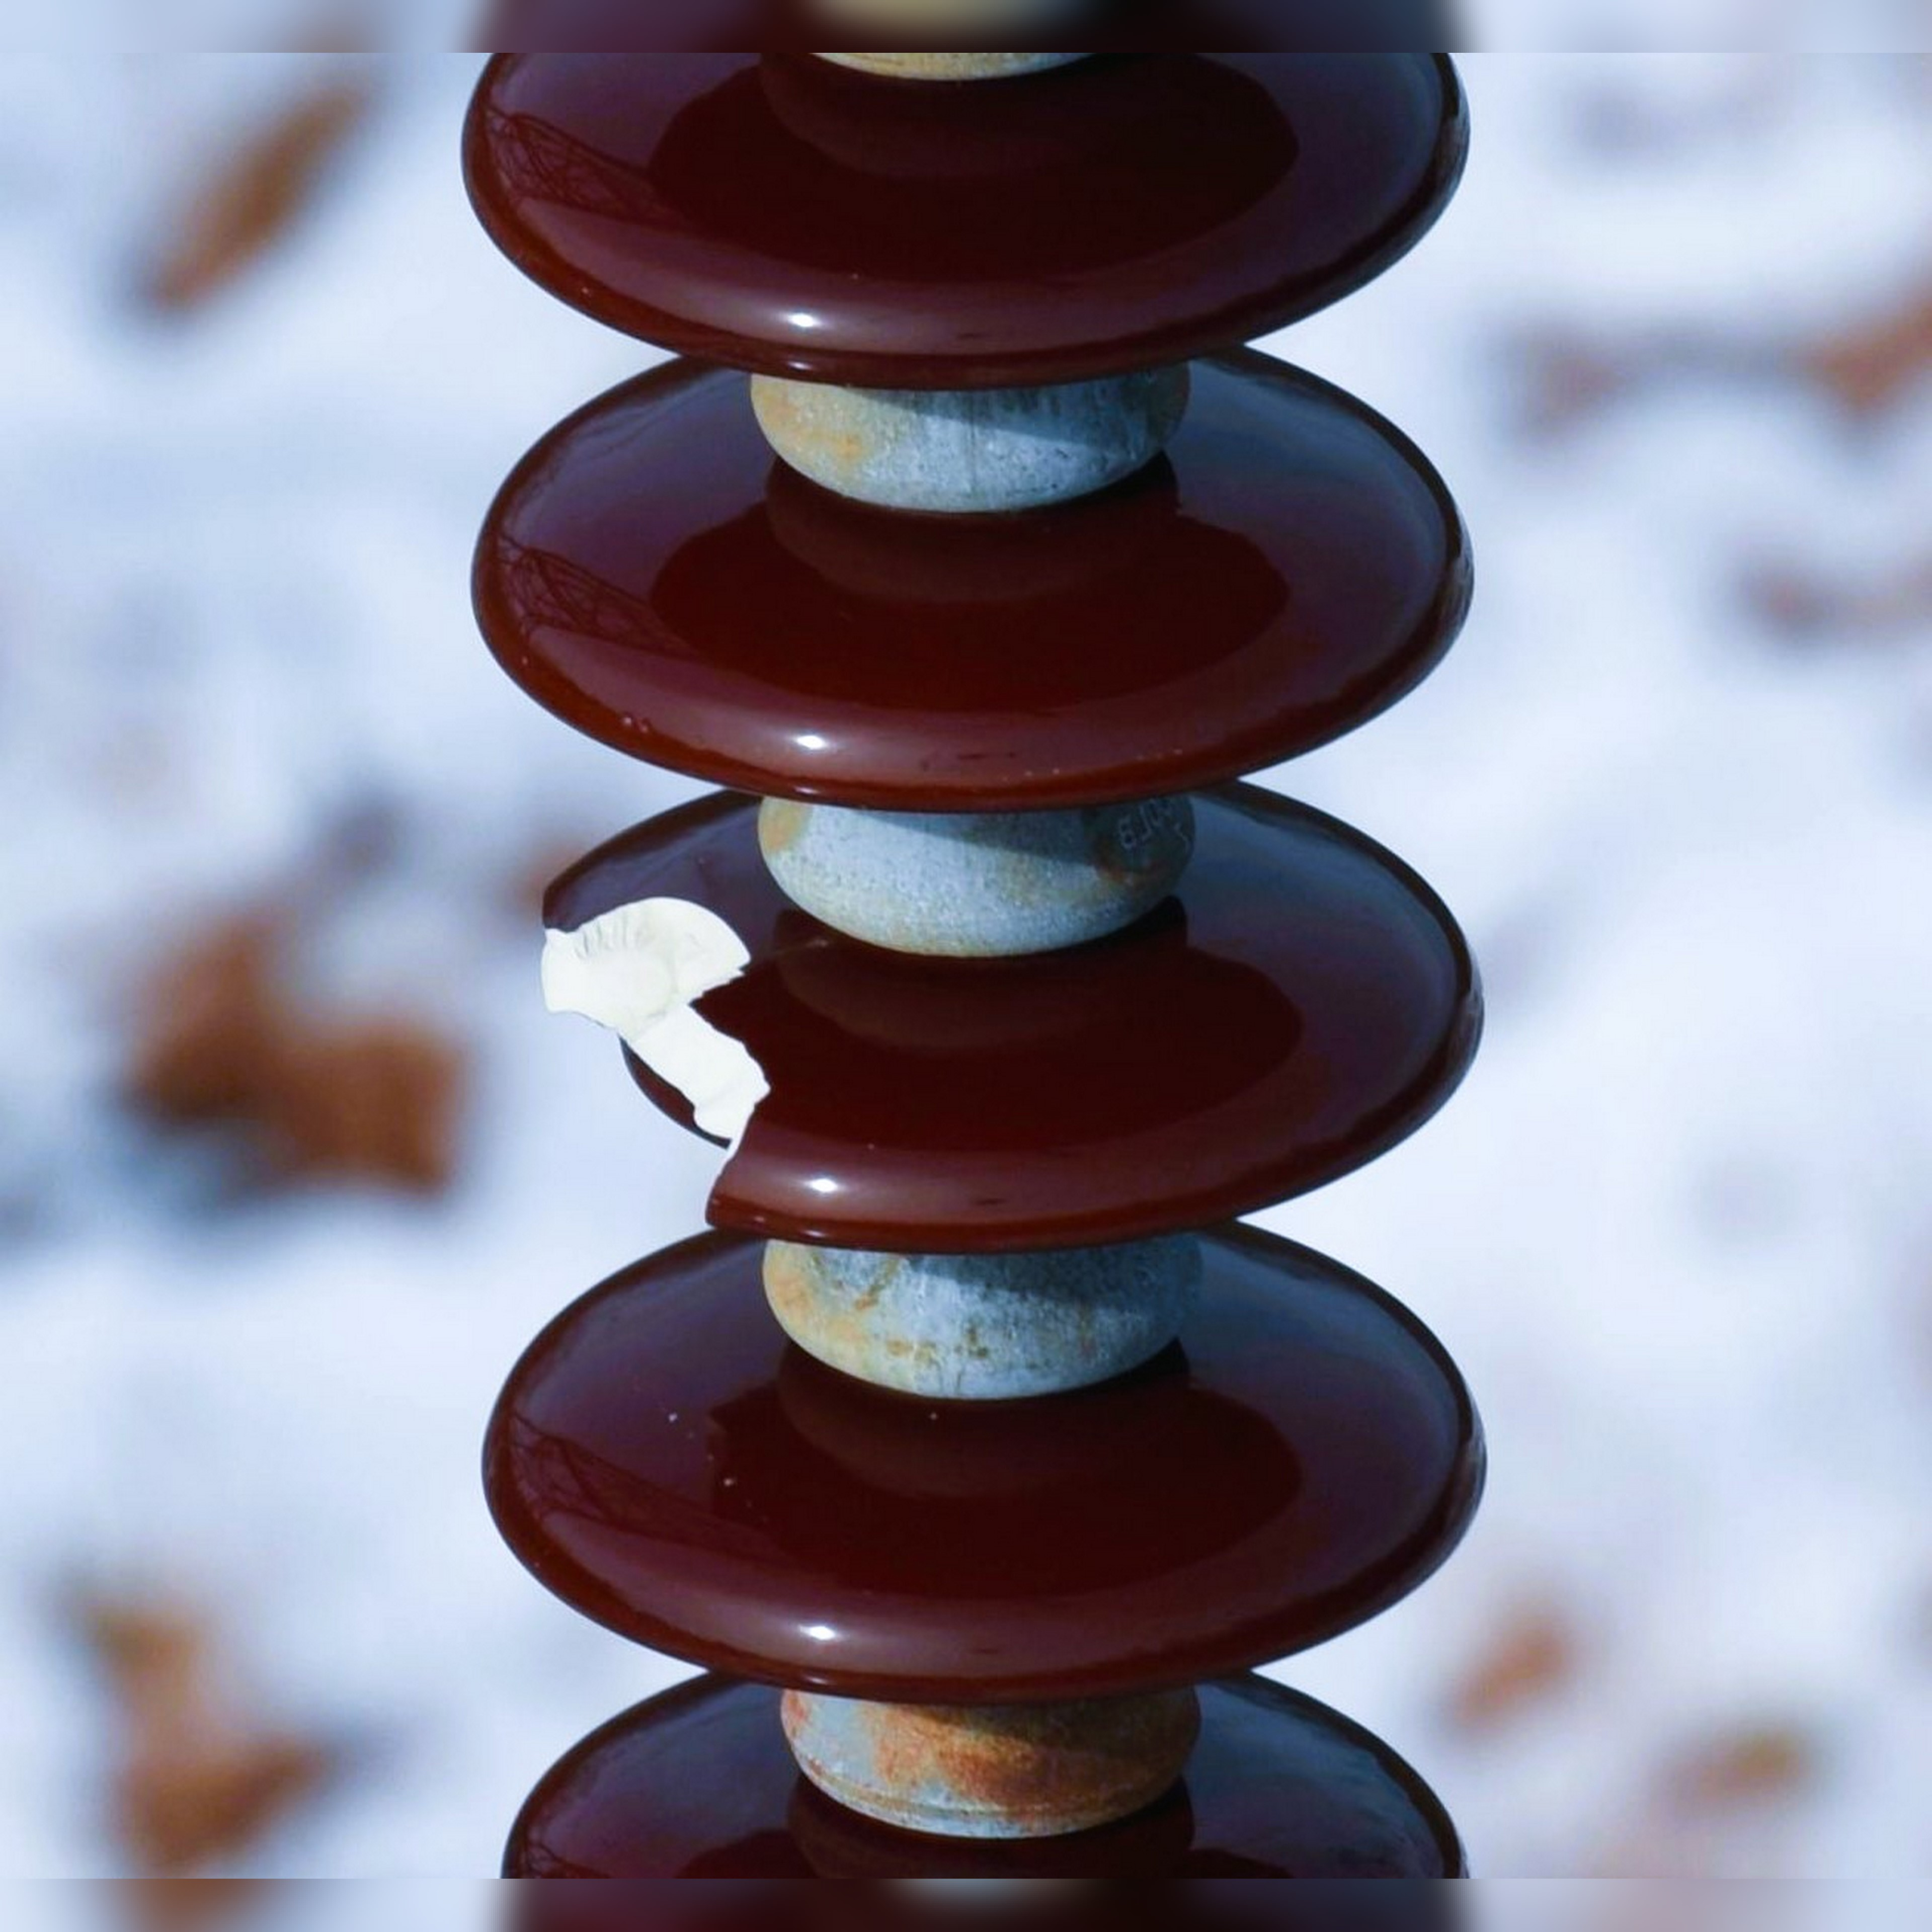insulator breakage: (442, 782, 1491, 1242)
